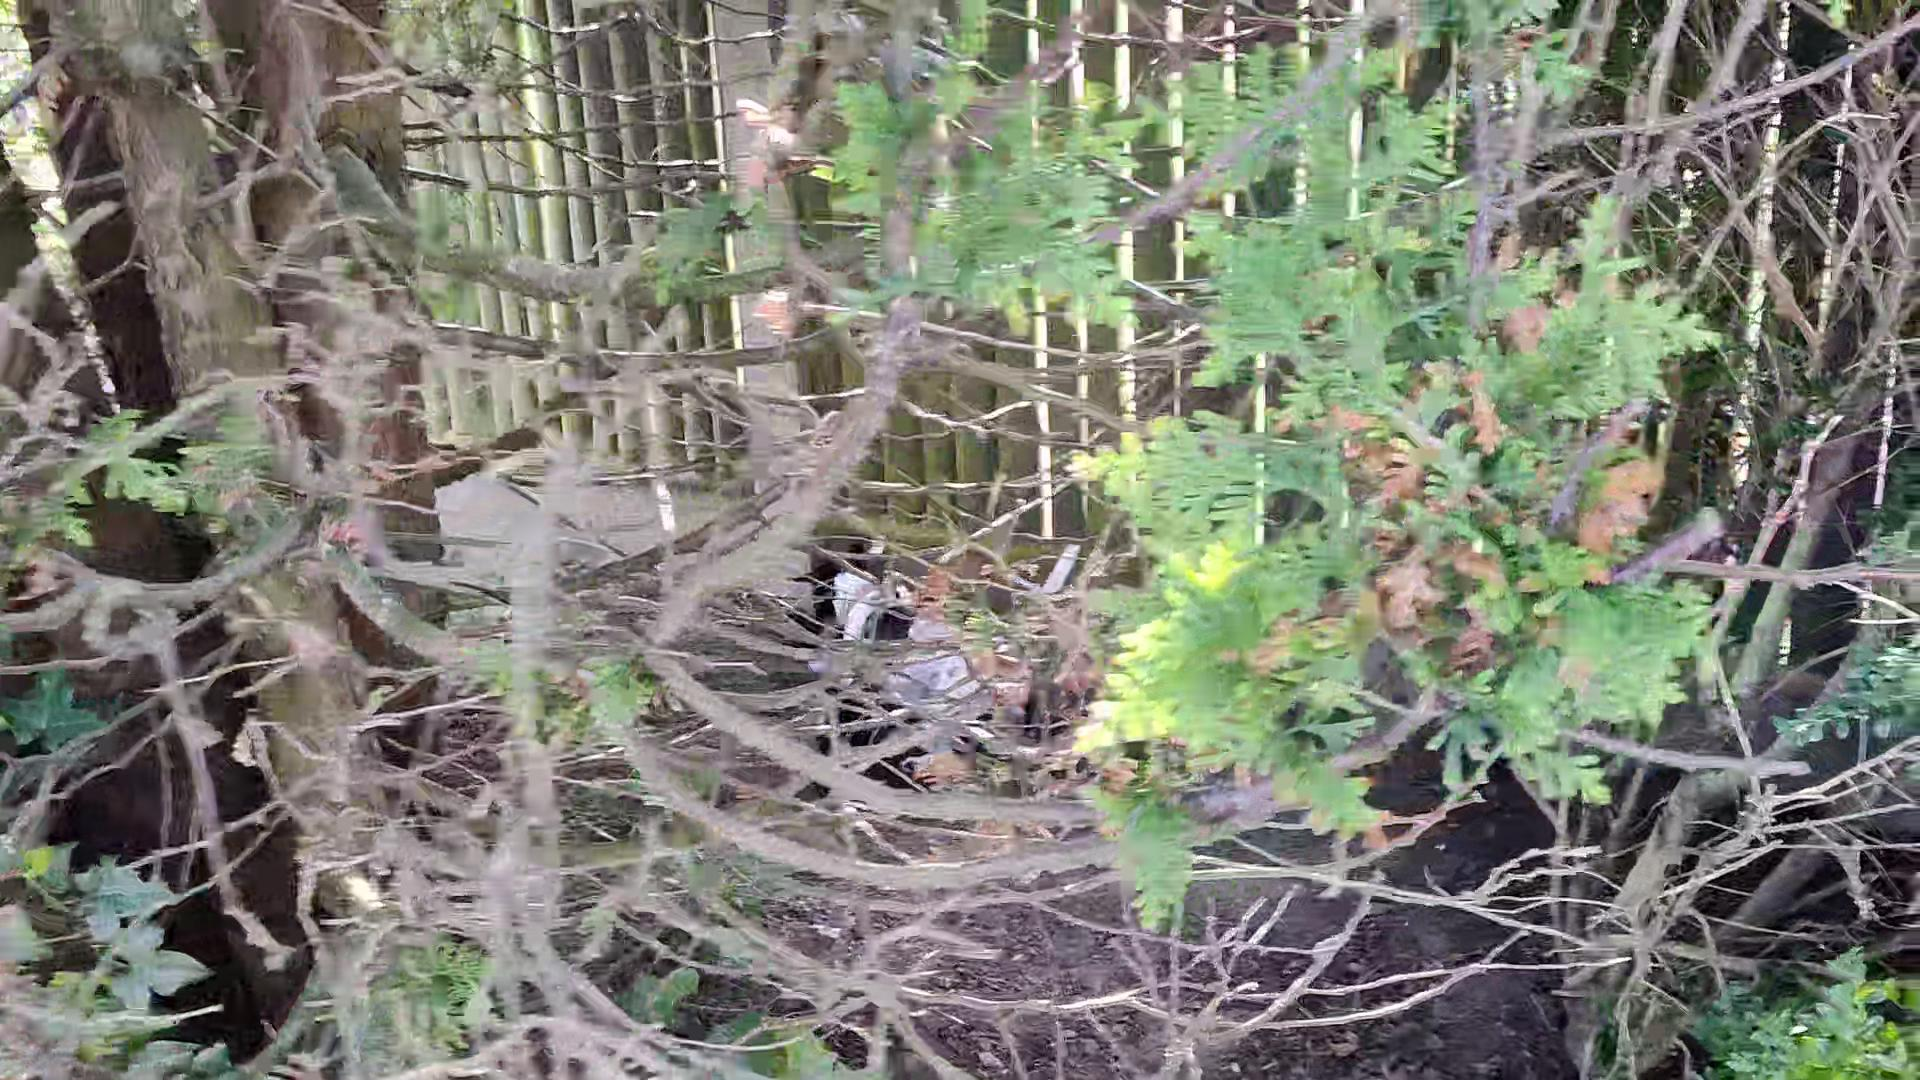Dog: (774, 537, 1092, 778)
